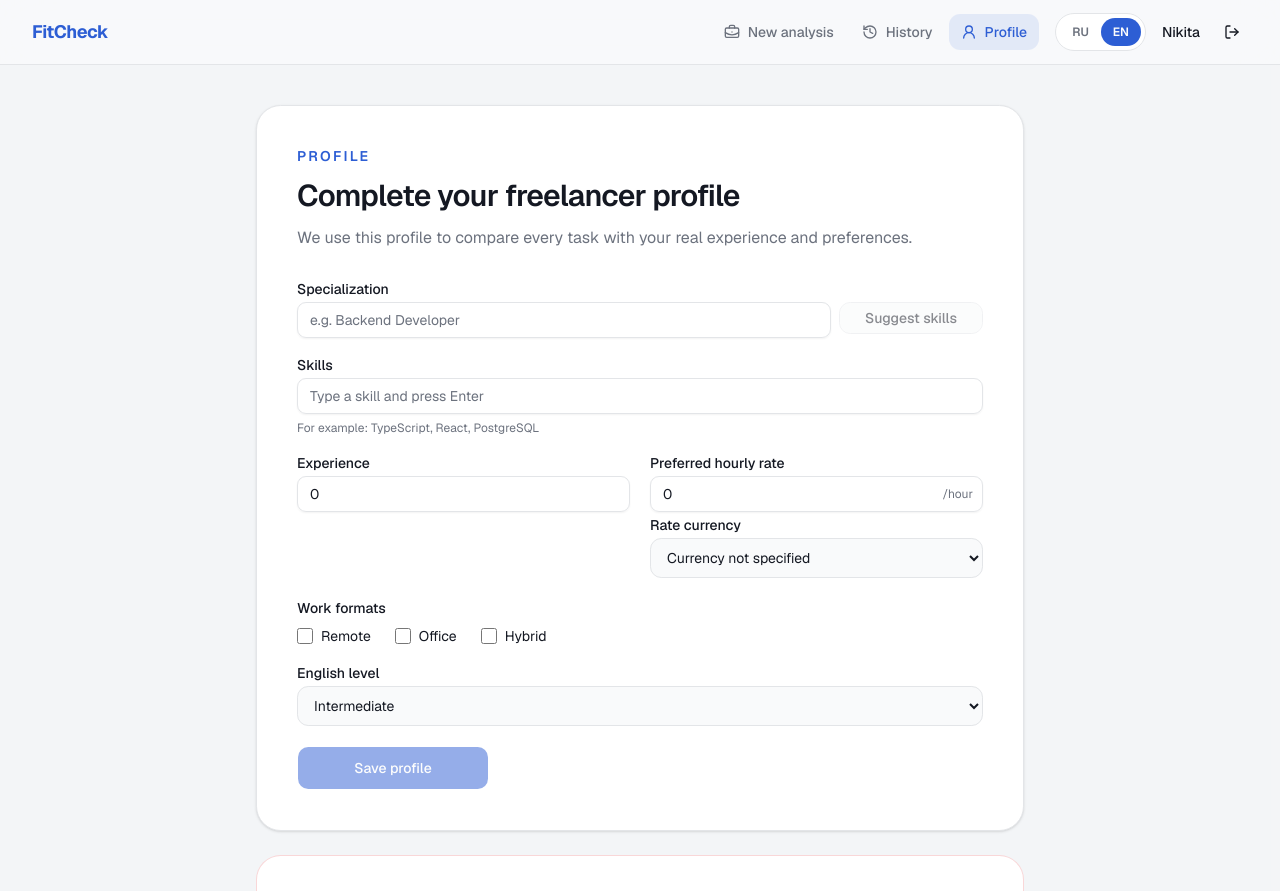
it: FitCheck profile skill suggestions › shows the localized profile message for suggestions_timeout
Type "Backend Developer" into the field labelled "Specialization" at (564, 320), box [297,302,831,338]
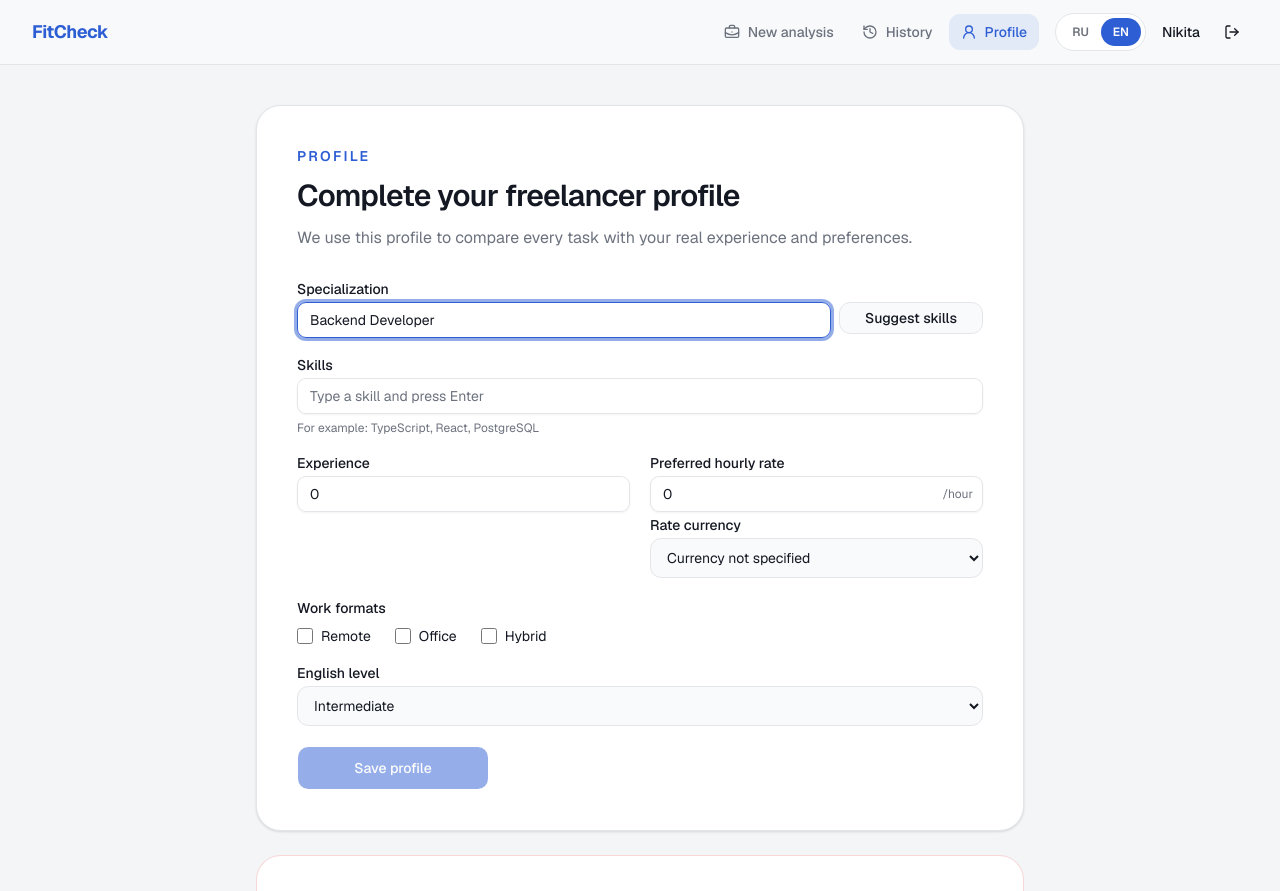
Click the button "Suggest skills" at (911, 318), box [839,302,983,334]
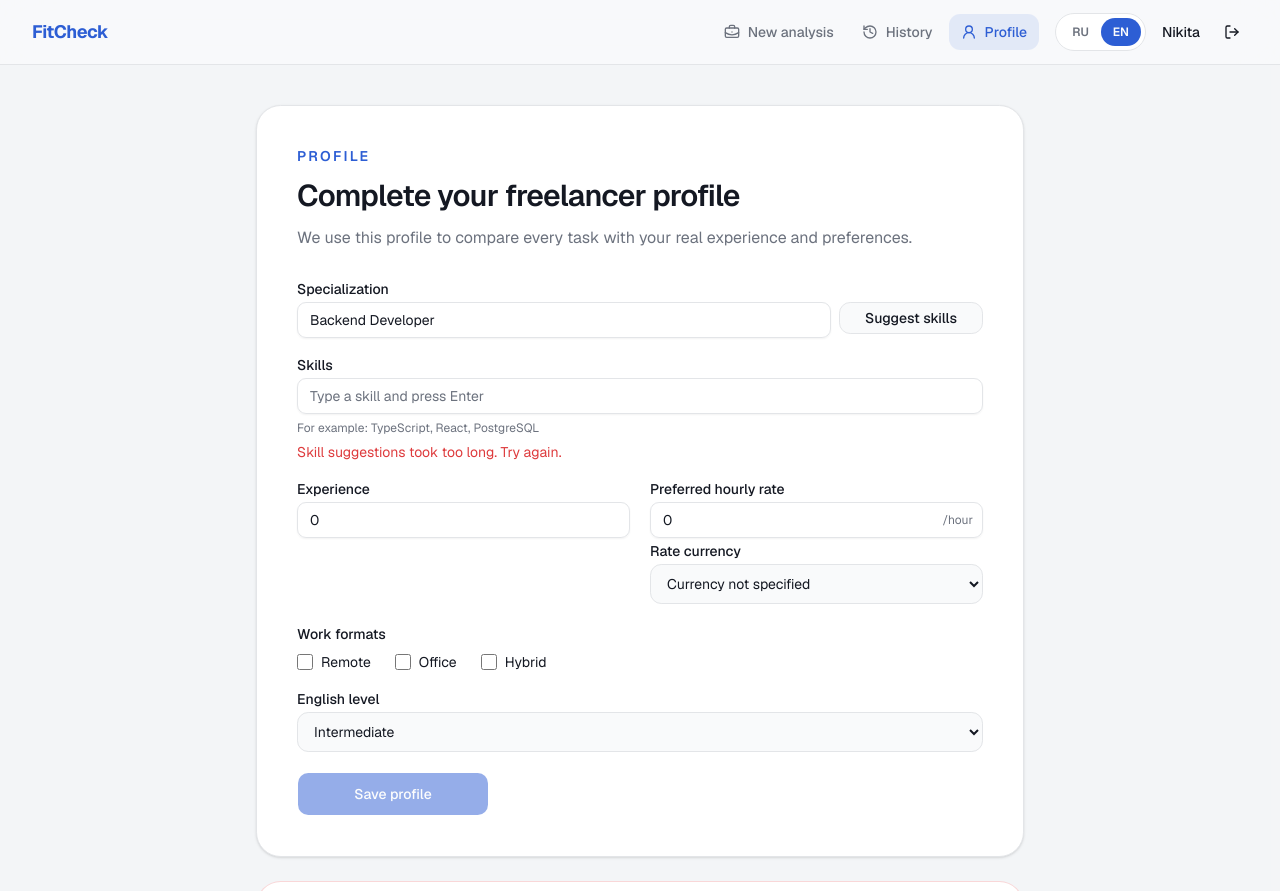
Now the message reads "Skill suggestions took too long. Try again.", box [297,443,562,461]
